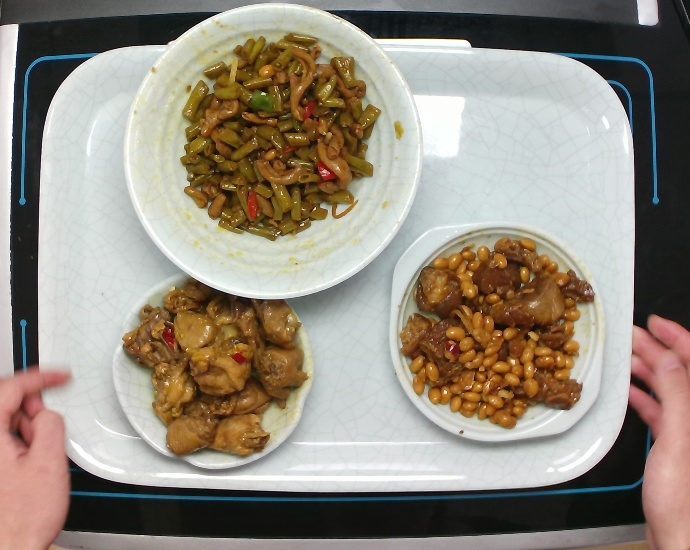JYsf-Ao_Yuan_Wan: (112, 268, 317, 471)
JYsf-Shuang_Er_Pan: (388, 212, 602, 439)
JYsf-Xiao_Tang_Wan: (125, 4, 423, 298)
